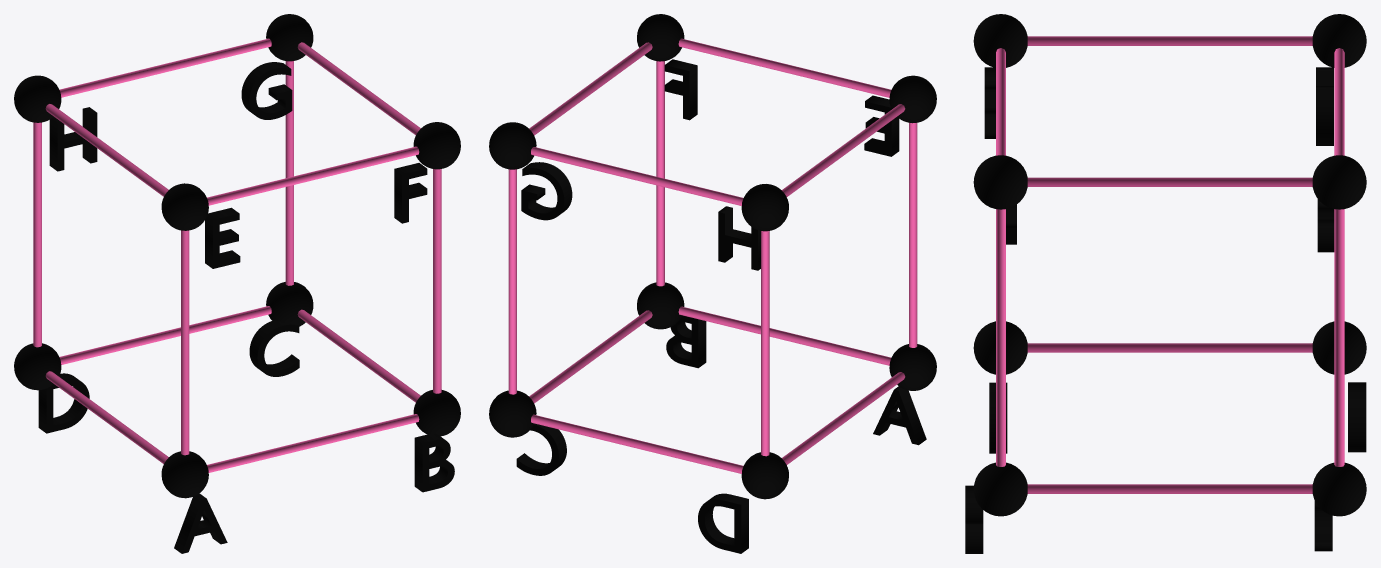
Rendered from res_10289.glb.
3 renders of one model, left to right at view 1: azimuth 30°, elevation 25°; view 2: azimuth 150°, elevation 25°; view 3: azimuth 270°, elevation 25°, orthographic. The views are drawn at different scales.
Visible parts, largest first — view 1: imagetostl_mesh14, imagetostl_mesh8, imagetostl_mesh10, imagetostl_mesh15, imagetostl_mesh9, imagetostl_mesh11, Text.006, Text.001, imagetostl_mesh19, imagetostl_mesh0, imagetostl_mesh1, imagetostl_mesh3 (+16 smaller); view 2: imagetostl_mesh17, imagetostl_mesh14, imagetostl_mesh8, Text.003, imagetostl_mesh9, imagetostl_mesh19, imagetostl_mesh15, imagetostl_mesh10, Text.006, imagetostl_mesh11, imagetostl_mesh4, imagetostl_mesh5 (+16 smaller); view 3: imagetostl_mesh12, imagetostl_mesh13, imagetostl_mesh18, imagetostl_mesh16, imagetostl_mesh17, imagetostl_mesh10, imagetostl_mesh5, imagetostl_mesh1, imagetostl_mesh2, imagetostl_mesh6, imagetostl_mesh4, imagetostl_mesh0 (+11 smaller).
Boxes of the visible parts, bbox=[...] form: imagetostl_mesh14: bbox=[33, 122, 41, 347]; imagetostl_mesh8: bbox=[181, 230, 189, 455]; imagetostl_mesh10: bbox=[433, 169, 441, 393]; imagetostl_mesh15: bbox=[59, 38, 271, 97]; imagetostl_mesh9: bbox=[207, 146, 419, 205]; imagetostl_mesh11: bbox=[207, 414, 419, 472]; Text.006: bbox=[241, 62, 292, 119]; Text.001: bbox=[414, 433, 454, 492]; imagetostl_mesh19: bbox=[59, 306, 271, 364]; imagetostl_mesh0: bbox=[161, 183, 208, 230]; imagetostl_mesh1: bbox=[413, 122, 460, 169]; imagetostl_mesh3: bbox=[161, 451, 208, 498]; imagetostl_mesh17: bbox=[508, 169, 516, 394]; imagetostl_mesh14: bbox=[761, 231, 769, 456]; imagetostl_mesh8: bbox=[909, 122, 917, 347]; Text.003: bbox=[698, 493, 748, 553]; imagetostl_mesh9: bbox=[678, 38, 891, 97]; imagetostl_mesh19: bbox=[531, 414, 743, 473]; imagetostl_mesh15: bbox=[531, 147, 743, 205]; imagetostl_mesh10: bbox=[656, 61, 664, 286]; Text.006: bbox=[521, 162, 572, 220]; imagetostl_mesh11: bbox=[678, 306, 890, 365]; imagetostl_mesh4: bbox=[741, 184, 788, 231]; imagetostl_mesh5: bbox=[489, 122, 536, 169]; imagetostl_mesh12: bbox=[1027, 36, 1312, 45]; imagetostl_mesh13: bbox=[1027, 343, 1312, 352]; imagetostl_mesh18: bbox=[1027, 484, 1312, 493]; imagetostl_mesh16: bbox=[1027, 177, 1312, 186]; imagetostl_mesh17: bbox=[1334, 209, 1344, 466]; imagetostl_mesh10: bbox=[996, 209, 1005, 466]; imagetostl_mesh5: bbox=[1312, 155, 1366, 209]; imagetostl_mesh1: bbox=[973, 155, 1027, 209]; imagetostl_mesh2: bbox=[973, 462, 1027, 516]; imagetostl_mesh6: bbox=[1312, 462, 1366, 516]; imagetostl_mesh4: bbox=[1312, 14, 1366, 67]; imagetostl_mesh0: bbox=[973, 14, 1027, 67].
Size of the model in its own units: 1.16 by 1.37 by 1.2.
